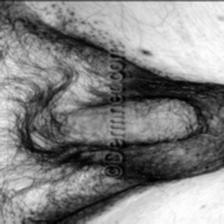Toxin: (27, 2, 101, 53)
